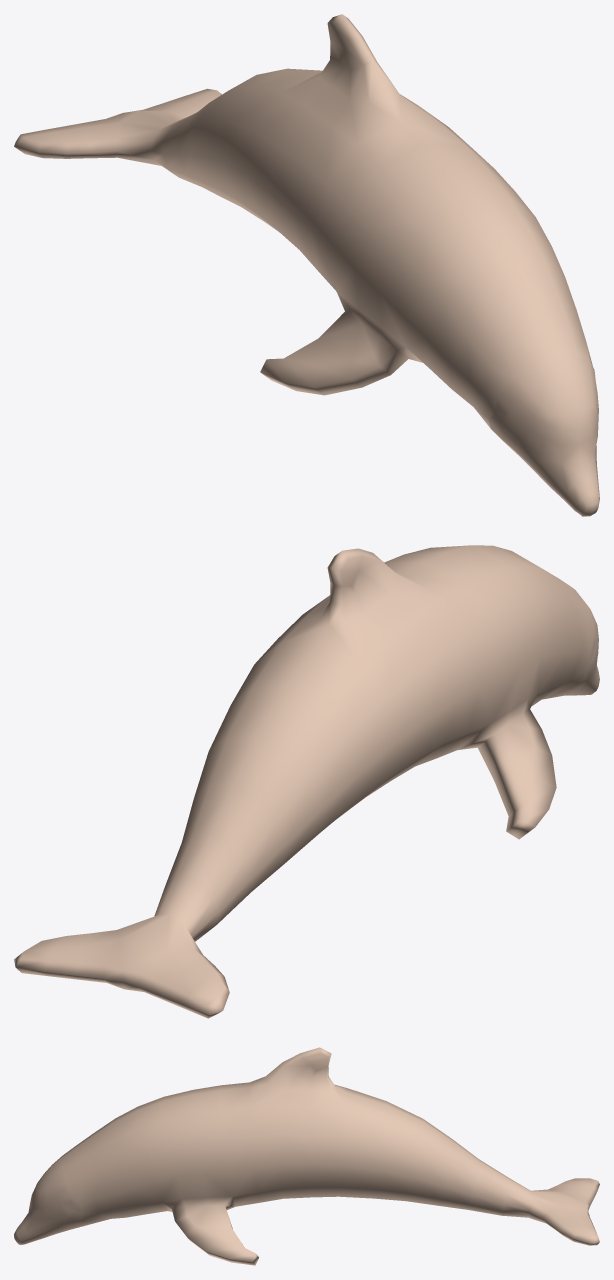
Rendered from dolphin.fbx.
3 renders of one model, top to bottom at view 1: azimuth 30°, elevation 25°; view 2: azimuth 150°, elevation 25°; view 3: azimuth 270°, elevation 25°, orthographic. The views are drawn at different scales.
Visible parts, largest first — view 1: Dolphin:dolphin; view 2: Dolphin:dolphin; view 3: Dolphin:dolphin.
Part boxes in pixels (x1,y1,x2,y2): Dolphin:dolphin: (14, 14, 599, 516); Dolphin:dolphin: (14, 545, 599, 1018); Dolphin:dolphin: (14, 1047, 599, 1265).
Bounding box in the file's own units: 135 × 151 × 408.
